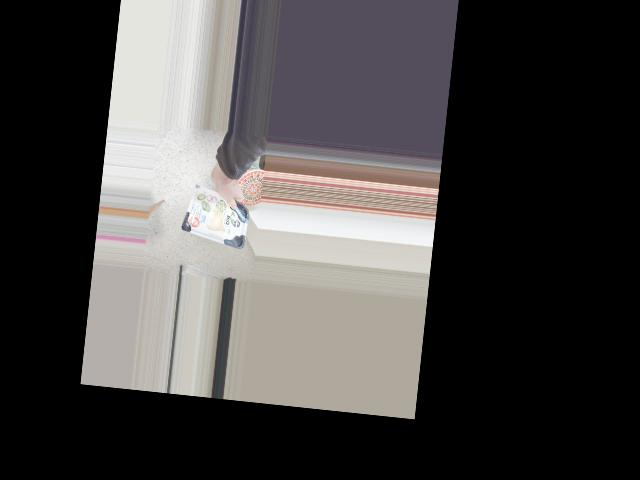cheese: (179, 189, 255, 244)
